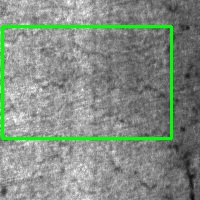crazing: (2, 27, 171, 138)
